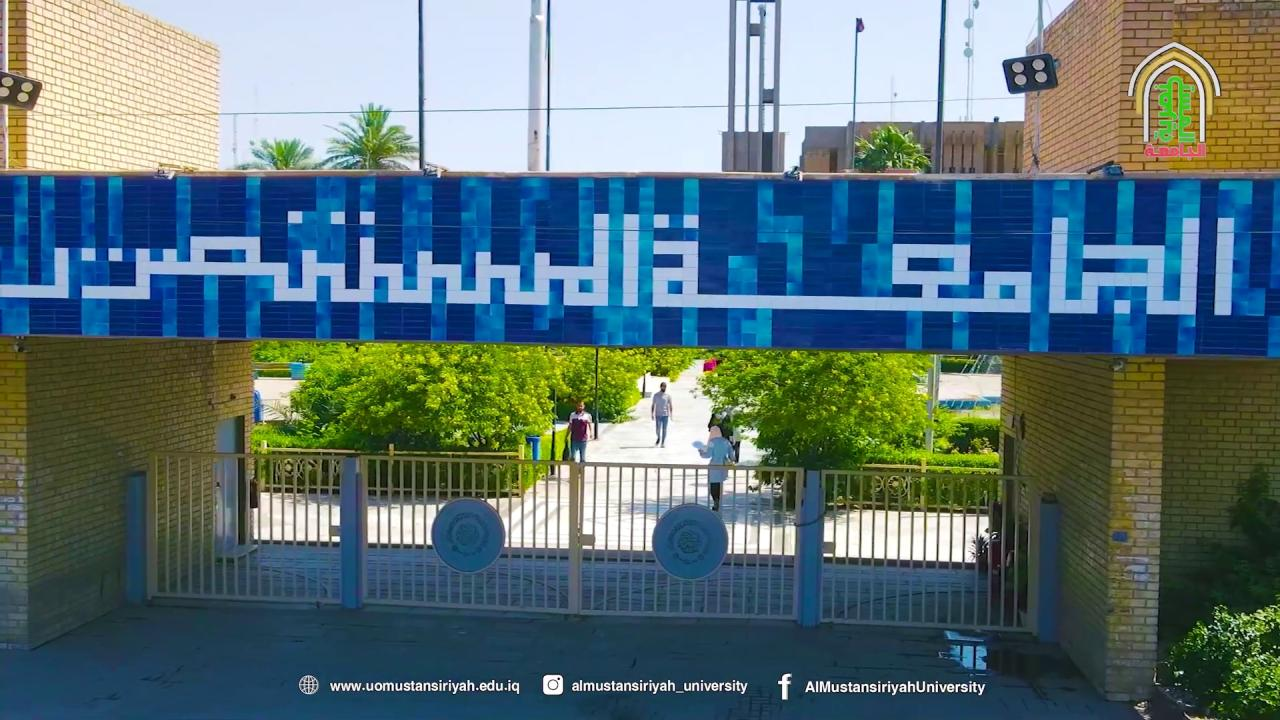car: (703, 358, 718, 371)
fountain: (288, 361, 312, 379)
person: (698, 424, 735, 512), (565, 400, 592, 462), (650, 382, 673, 447)
tree: (285, 340, 566, 496), (694, 347, 940, 510), (1155, 601, 1279, 718), (557, 347, 641, 430), (319, 101, 419, 170), (852, 124, 932, 173), (241, 136, 319, 170), (643, 347, 697, 382)
